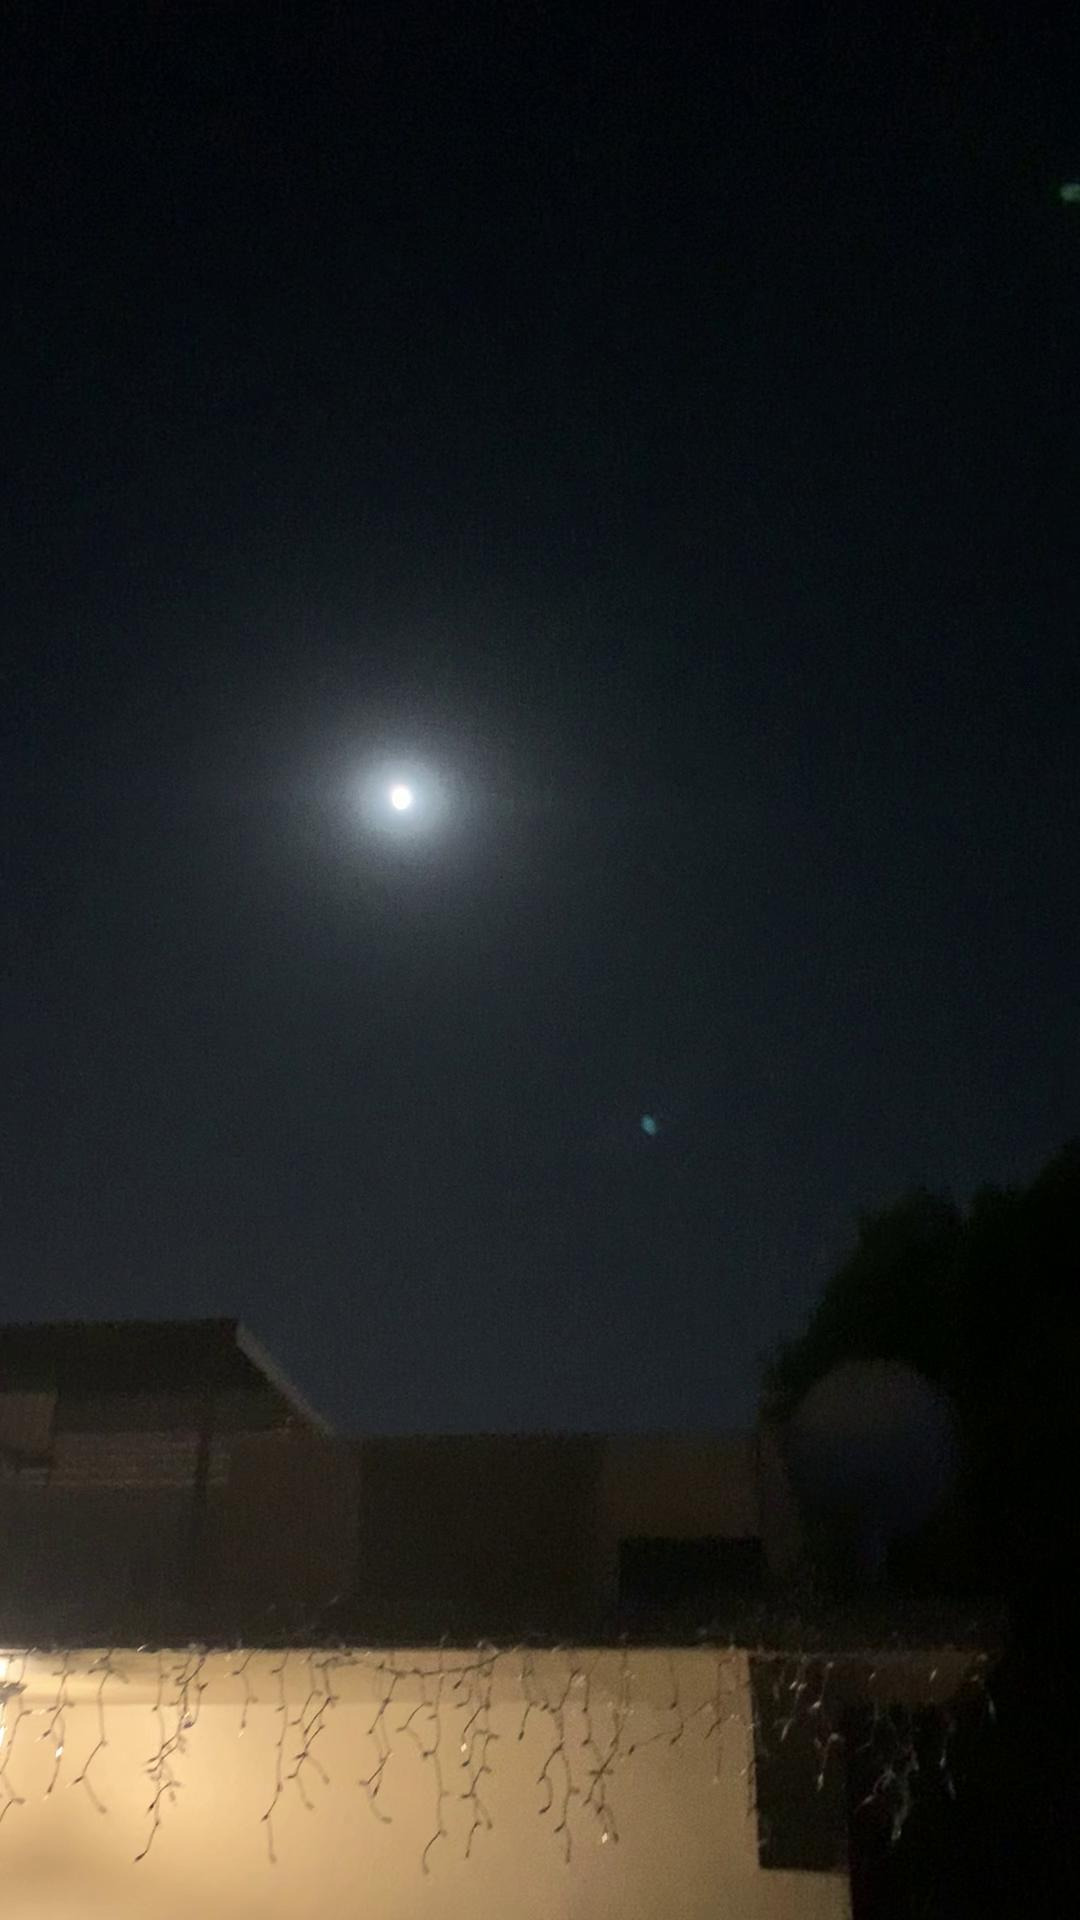moon: (364, 750, 451, 829)
